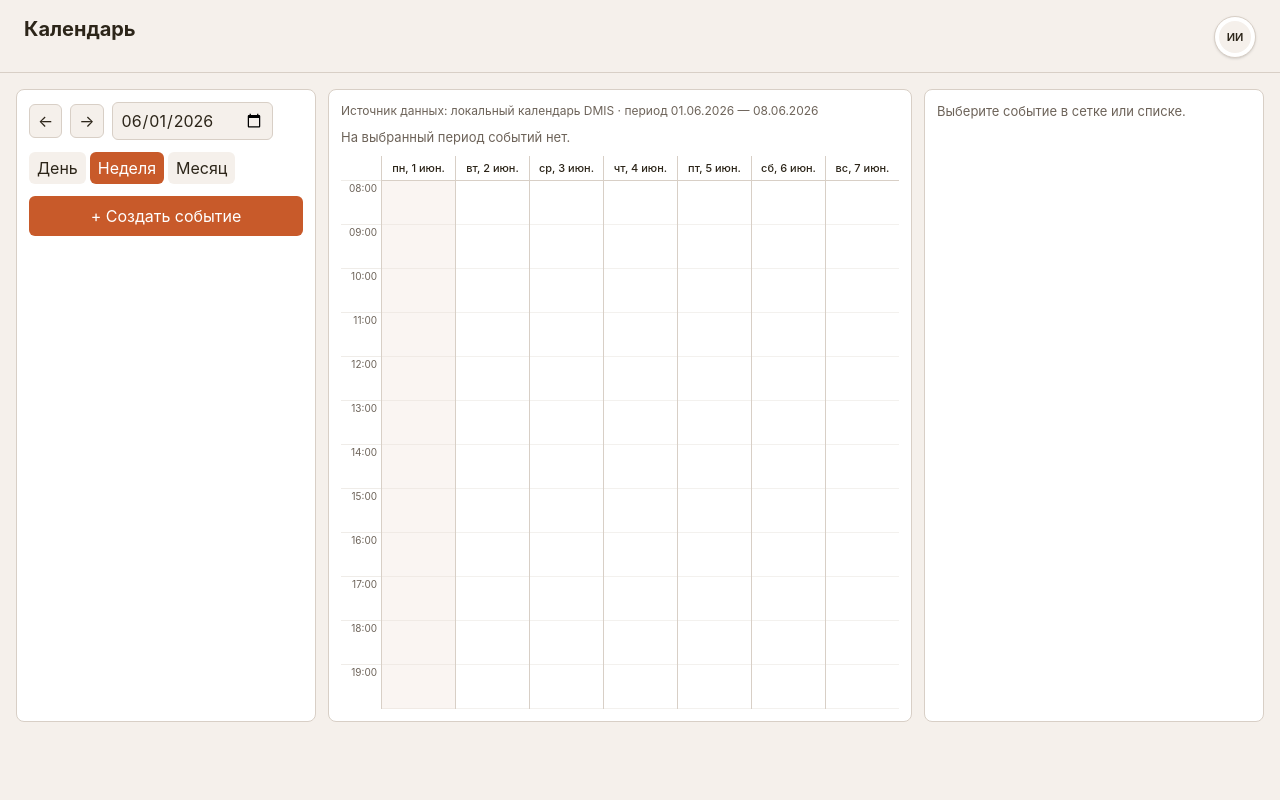
Scenario: AC-E2: clicking '+ Создать событие' expands the form › shows the create form after clicking the button
Click the button "+ Создать событие": (166, 216) [29, 196, 303, 236]
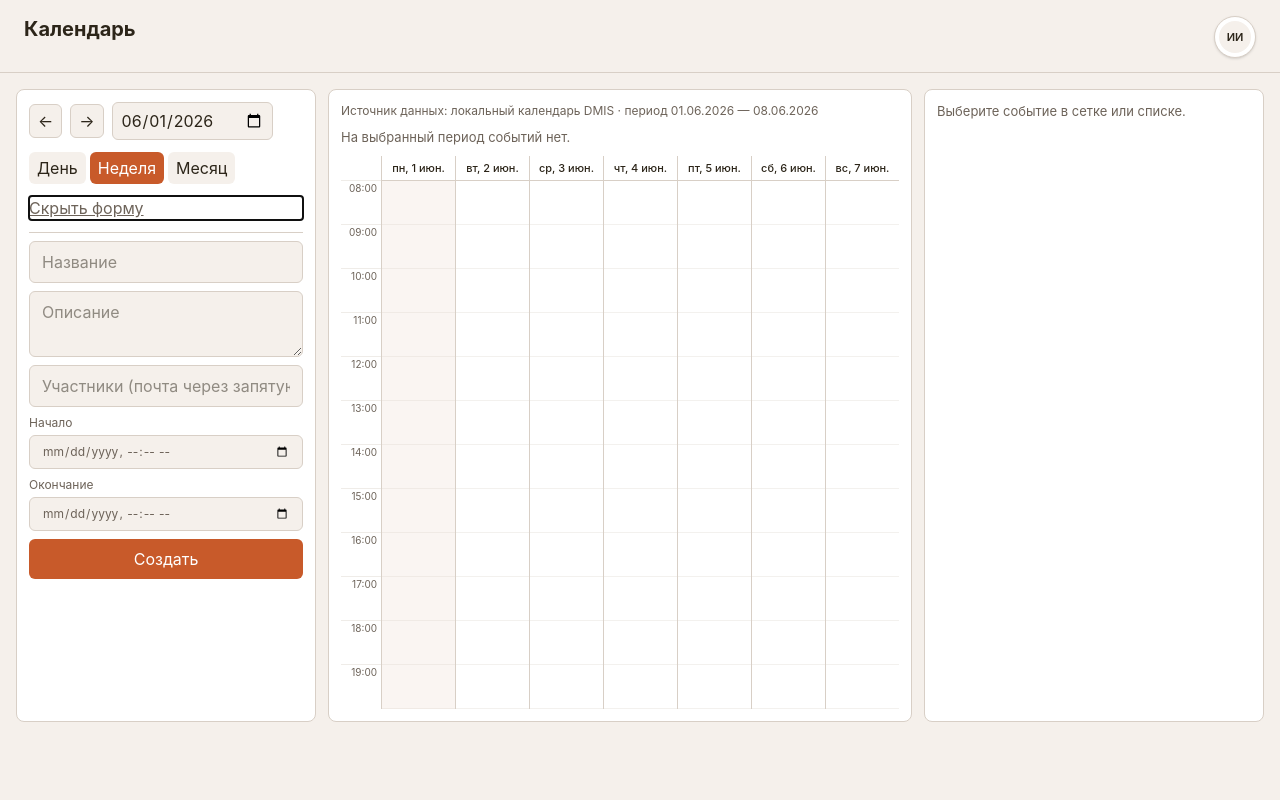
Expected: the field named "название события" is shown, [29, 241, 303, 283]
